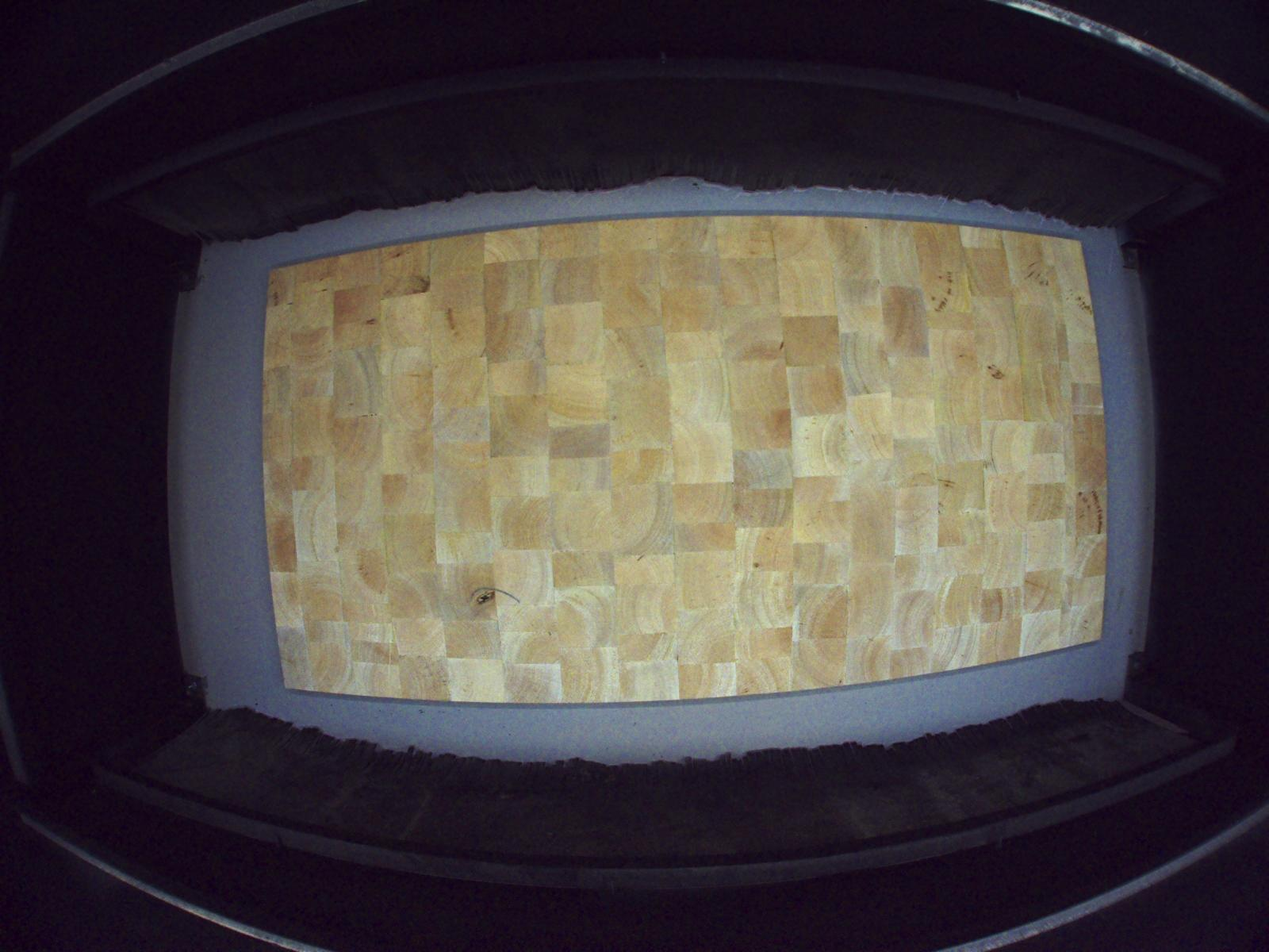nudillo: (475, 589, 496, 605)
